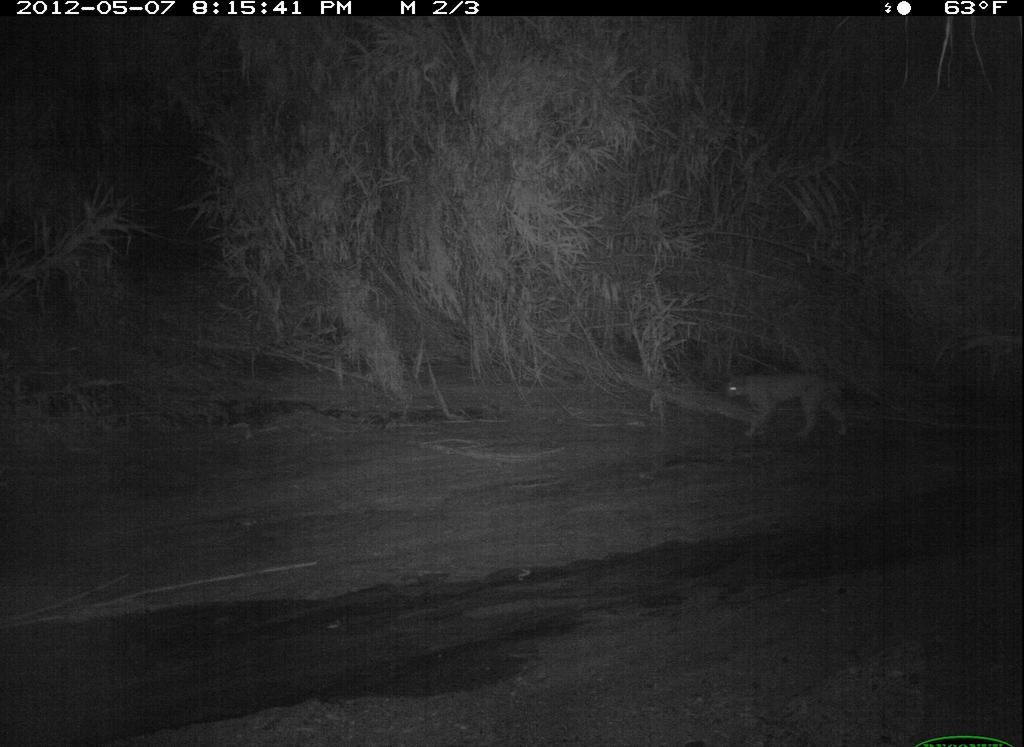bobcat: (712, 351, 867, 452)
